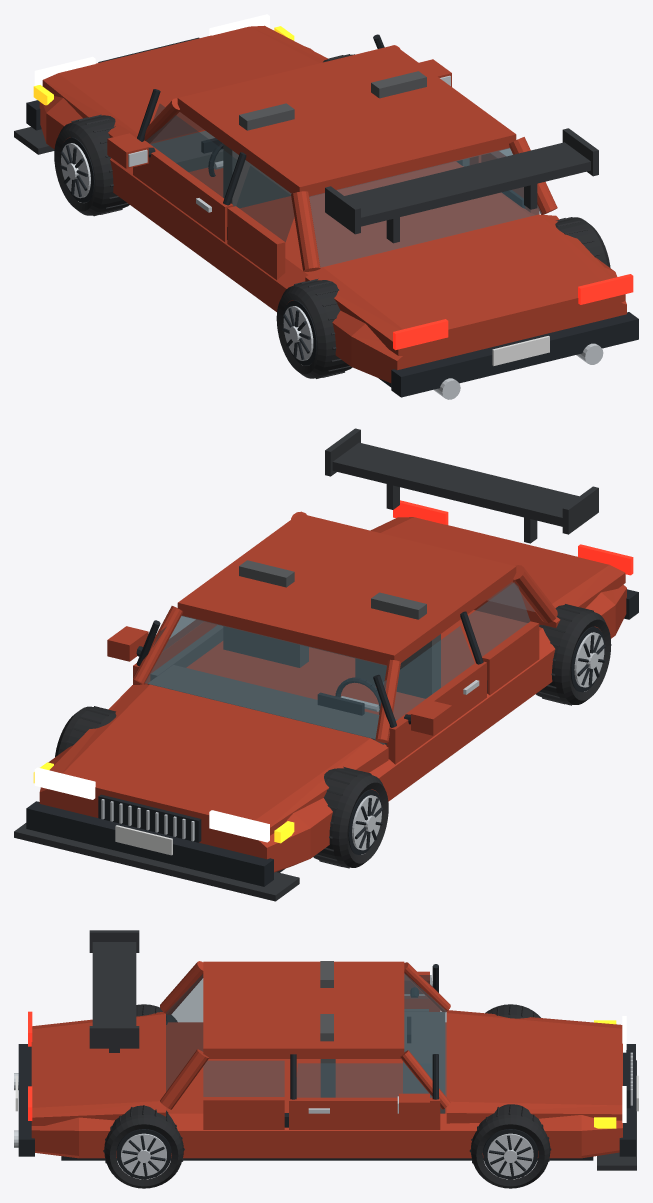
The model's file is supercar_hyper.glb.
The picture shows the model from 3 angles, top to bottom: view 1: azimuth 30°, elevation 25°; view 2: azimuth 150°, elevation 25°; view 3: azimuth 270°, elevation 25°; orthographic projection. The views are drawn at different scales.
Parts seen in each view (by area): view 1: Body, Wing_Rear, Door_FL, Wheel_RL, Wheel_FL, Wheel_RR, Door_FR; view 2: Body, Wing_Rear, Door_FL, Wheel_FL, Wheel_RL, Door_FR, Wheel_FR; view 3: Body, Door_FR, Wing_Rear, Wheel_FR, Wheel_RR, Door_FL, Wheel_FL.
Part boxes in pixels (<box>): Body: <box>14,14,638,399</box>; Wing_Rear: <box>325,128,598,234</box>; Door_FL: <box>107,89,246,241</box>; Wheel_RL: <box>276,278,352,378</box>; Wheel_FL: <box>54,114,129,216</box>; Wheel_RR: <box>555,217,610,267</box>; Door_FR: <box>373,34,481,166</box>; Body: <box>14,484,638,901</box>; Wing_Rear: <box>325,428,598,534</box>; Door_FL: <box>373,611,486,764</box>; Wheel_FL: <box>313,766,388,868</box>; Wheel_RL: <box>536,604,611,705</box>; Door_FR: <box>107,616,223,684</box>; Wheel_FR: <box>55,706,116,756</box>; Body: <box>14,961,638,1170</box>; Door_FR: <box>289,1054,440,1129</box>; Wing_Rear: <box>89,930,139,1048</box>; Wheel_FR: <box>469,1104,551,1188</box>; Wheel_RR: <box>103,1105,184,1188</box>; Door_FL: <box>404,964,440,1011</box>; Wheel_FL: <box>485,1004,540,1018</box>.
Size of what is drawn, in the model's own units: 2.49 by 1.37 by 5.02.
